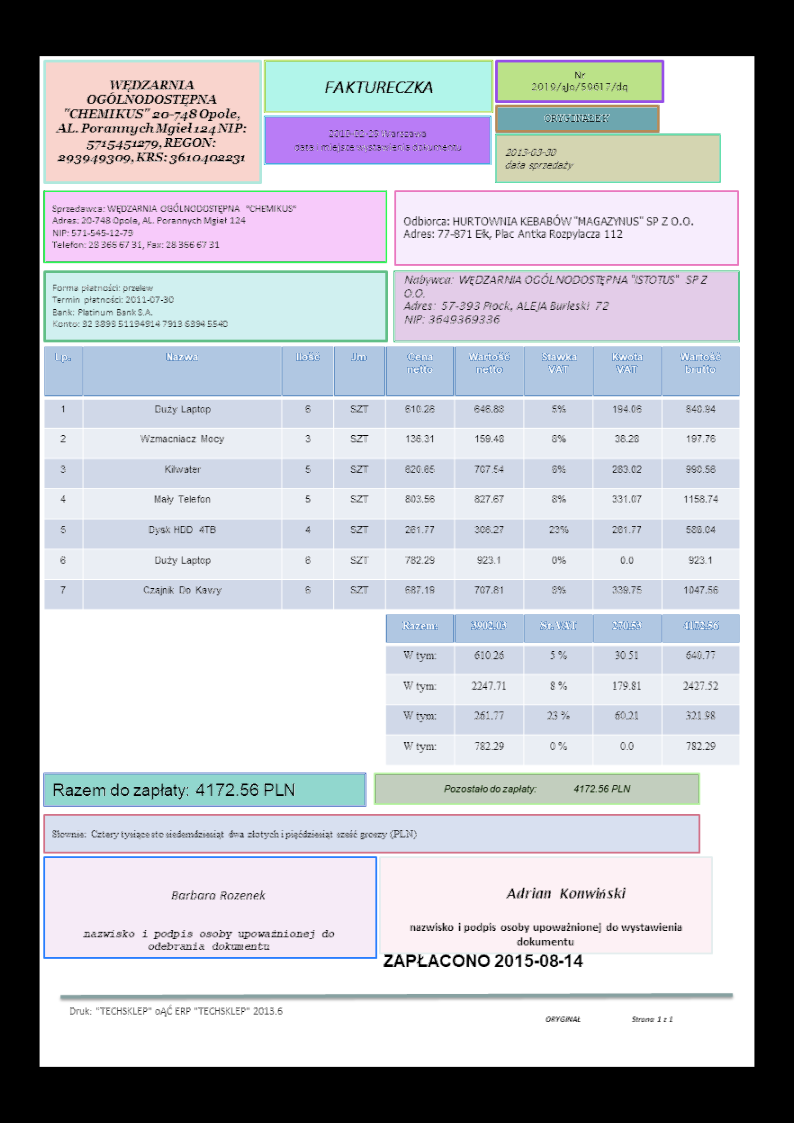Table: (42, 345, 742, 612), (384, 612, 742, 767)
TextBox: (53, 78, 250, 168), (401, 270, 710, 327), (49, 201, 300, 253), (401, 212, 696, 243), (51, 280, 228, 330), (407, 918, 688, 947), (82, 924, 338, 953), (50, 826, 419, 843), (51, 778, 297, 801), (291, 125, 464, 155), (380, 949, 583, 971), (66, 1001, 287, 1018), (440, 781, 632, 798), (529, 68, 631, 95), (502, 143, 576, 174), (321, 76, 435, 96), (503, 885, 627, 902), (544, 1011, 676, 1025), (168, 887, 270, 903), (541, 109, 612, 125)
